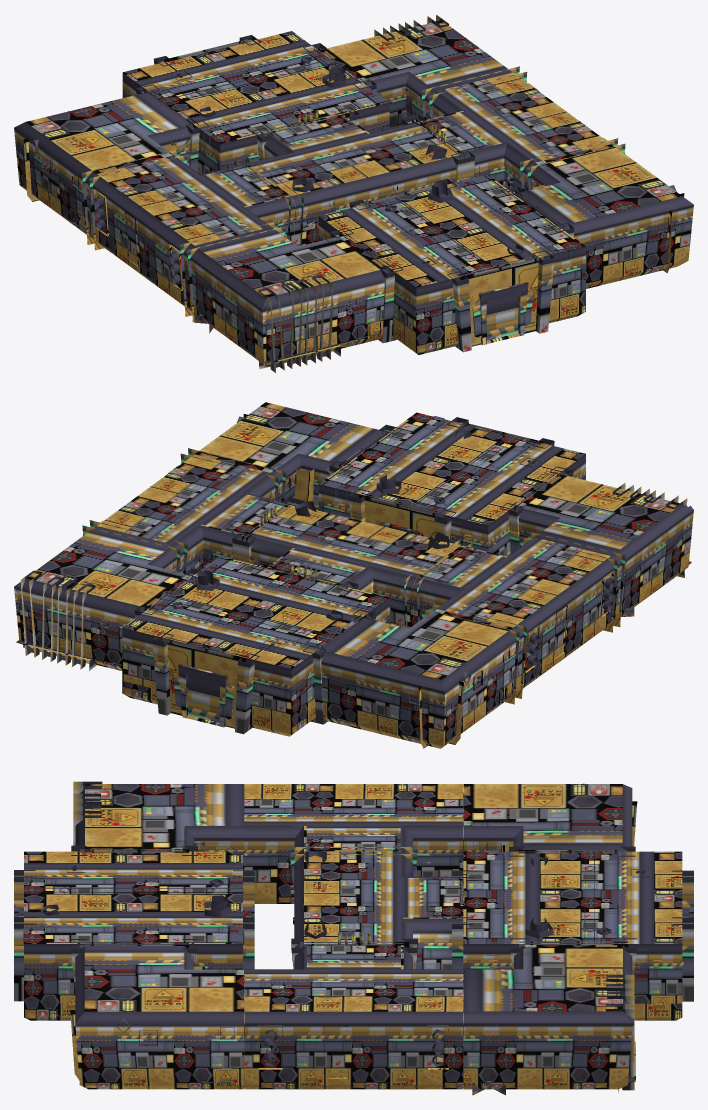
File: Combined_Mesh_root_scene__22_9f3a19a4__zombies2_diffuse_04_b80f3c78_c1f257.obj
3 views of the same model, one above another, from view 1: azimuth 30°, elevation 25°; view 2: azimuth 150°, elevation 25°; view 3: azimuth 270°, elevation 25° (orthographic). The views are drawn at different scales.
Bounding box in the file's own units: 52.07 × 9.64 × 62.1.
147 materials, 147 textured.
